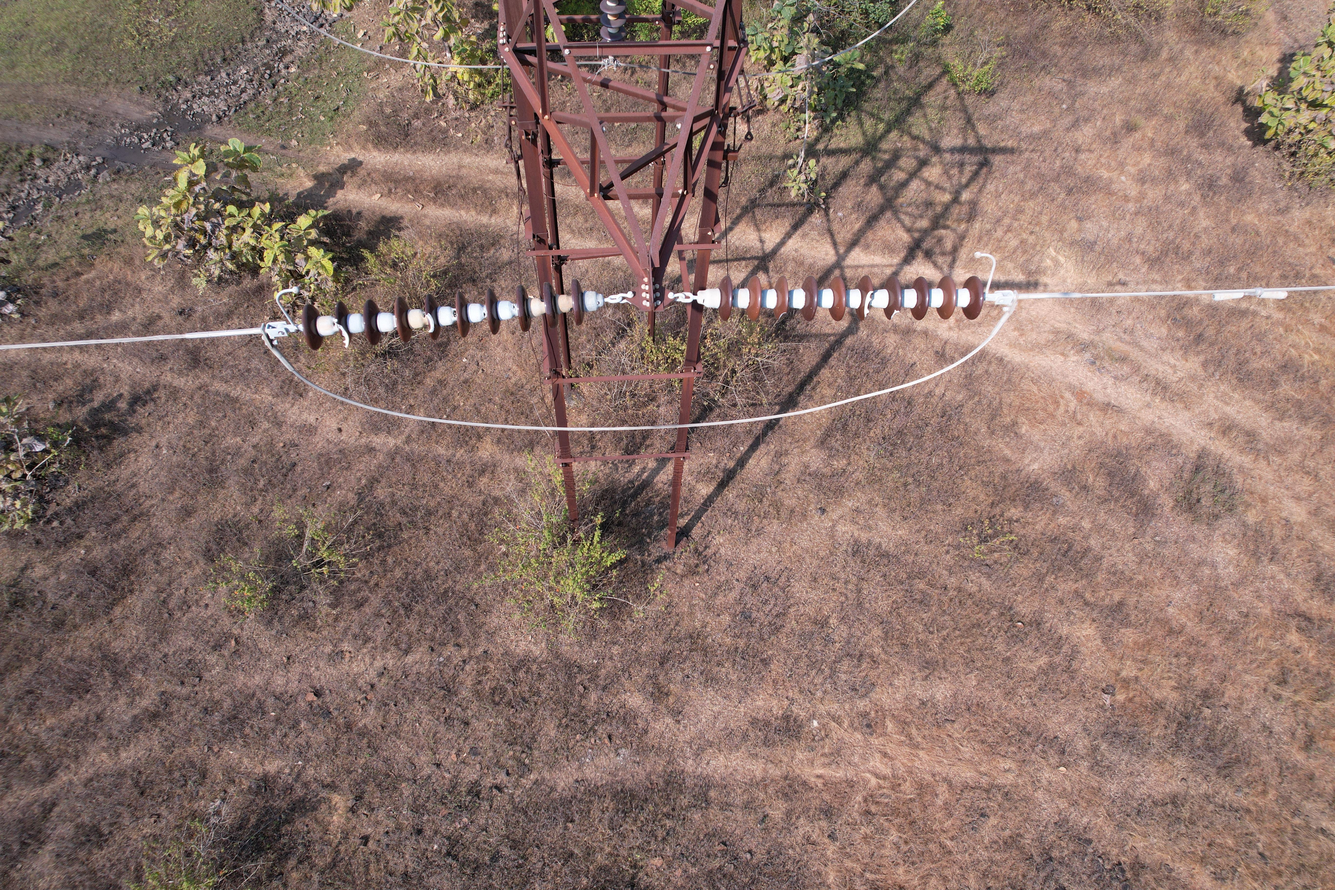broken_insulator: (414, 287, 450, 347), (319, 301, 361, 351), (851, 271, 880, 324), (883, 270, 909, 323), (773, 275, 789, 322)
